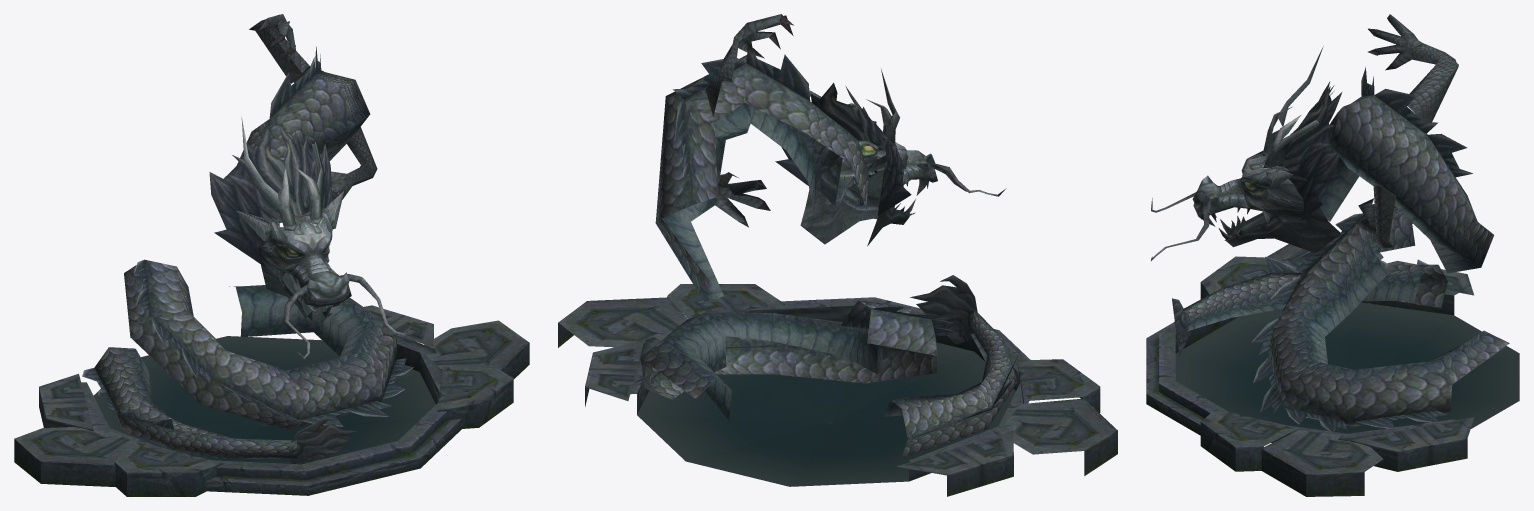
File: fb_zhenlongqiju_longdiao.FBX
3 views of the same model, side by side, from view 1: azimuth 30°, elevation 25°; view 2: azimuth 150°, elevation 25°; view 3: azimuth 270°, elevation 25° (orthographic). The views are drawn at different scales.
Visible parts, largest first — view 1: fb_zhenlongqiju_longdiao; view 2: fb_zhenlongqiju_longdiao; view 3: fb_zhenlongqiju_longdiao.
Boxes of the visible parts, x1,y1,x2,y2 form: fb_zhenlongqiju_longdiao: (14, 14, 529, 496); fb_zhenlongqiju_longdiao: (558, 14, 1117, 496); fb_zhenlongqiju_longdiao: (1146, 14, 1519, 496).
Size of the model in its own units: 1040 by 786 by 681.
